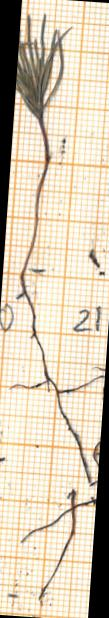flower: (16, 15, 68, 119)
root: (11, 275, 102, 485)
stem: (21, 117, 49, 276)
